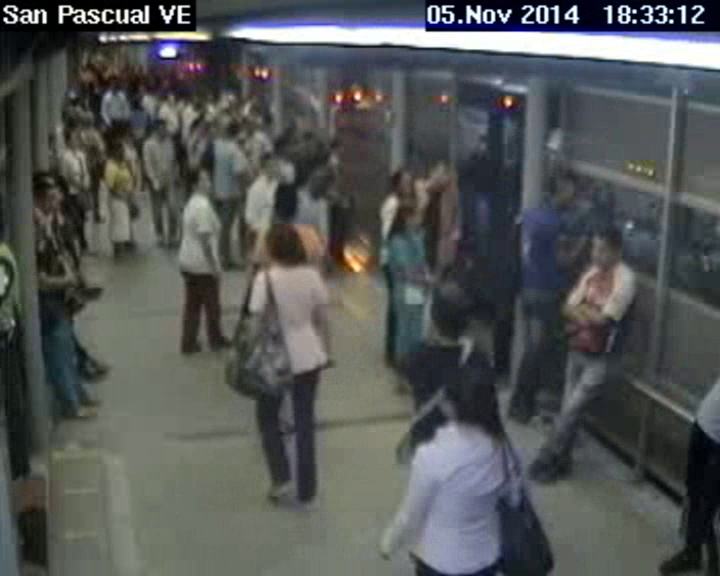person: (431, 354, 494, 423), (426, 275, 474, 344), (259, 221, 303, 268), (589, 221, 628, 271), (267, 179, 304, 228), (542, 172, 579, 210), (29, 180, 61, 219), (186, 161, 215, 195), (392, 206, 419, 236), (391, 169, 417, 196), (257, 150, 280, 180), (309, 167, 332, 195), (431, 165, 451, 193), (105, 139, 129, 162), (151, 114, 168, 143), (328, 133, 345, 158), (62, 128, 82, 146), (241, 115, 256, 134), (222, 121, 239, 136), (106, 80, 121, 97), (163, 89, 175, 106)
